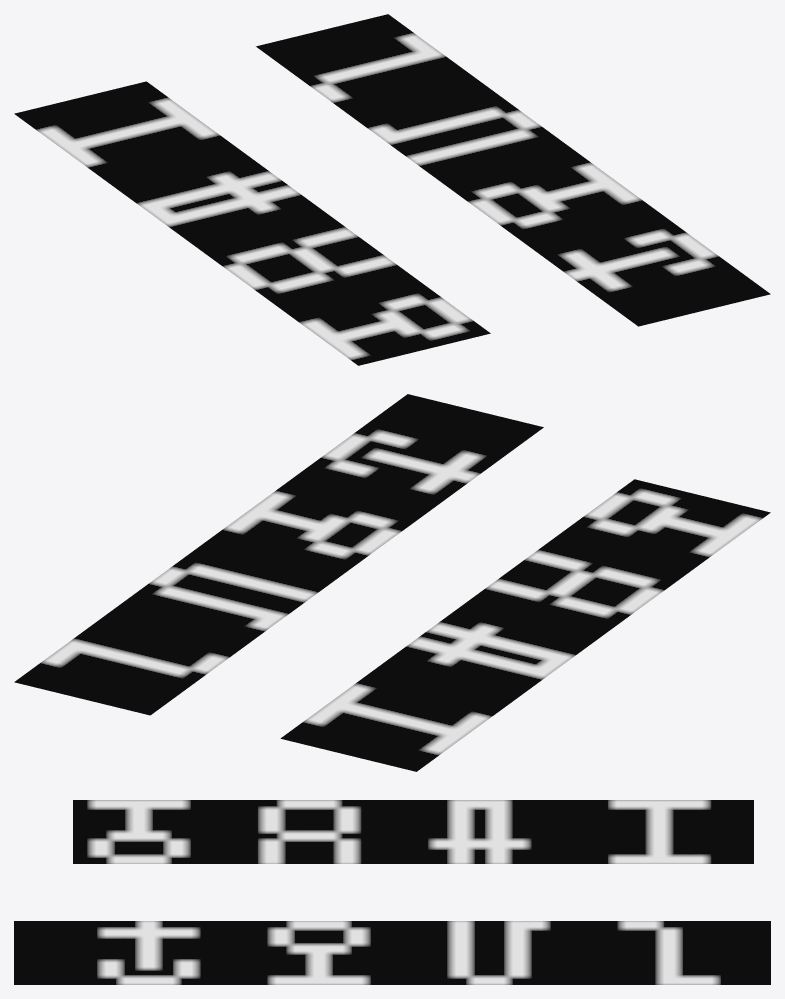
Rendered from SM_TotemGlyphs_03.glb.
3 renders of one model, top to bottom at view 1: azimuth 30°, elevation 25°; view 2: azimuth 150°, elevation 25°; view 3: azimuth 270°, elevation 25°, orthographic. The views are drawn at different scales.
Visible parts, largest first — view 1: SM_TotemGlyphs_03.001; view 2: SM_TotemGlyphs_03.001; view 3: SM_TotemGlyphs_03.001.
Boxes of the visible parts, x1,y1,x2,y2 form: SM_TotemGlyphs_03.001: (14,14,770,365); SM_TotemGlyphs_03.001: (14,394,770,771); SM_TotemGlyphs_03.001: (14,800,770,984).
Size of the model in its own units: 289 by 1.26e-05 by 500.
Materials: 1 (1 with a texture image).
